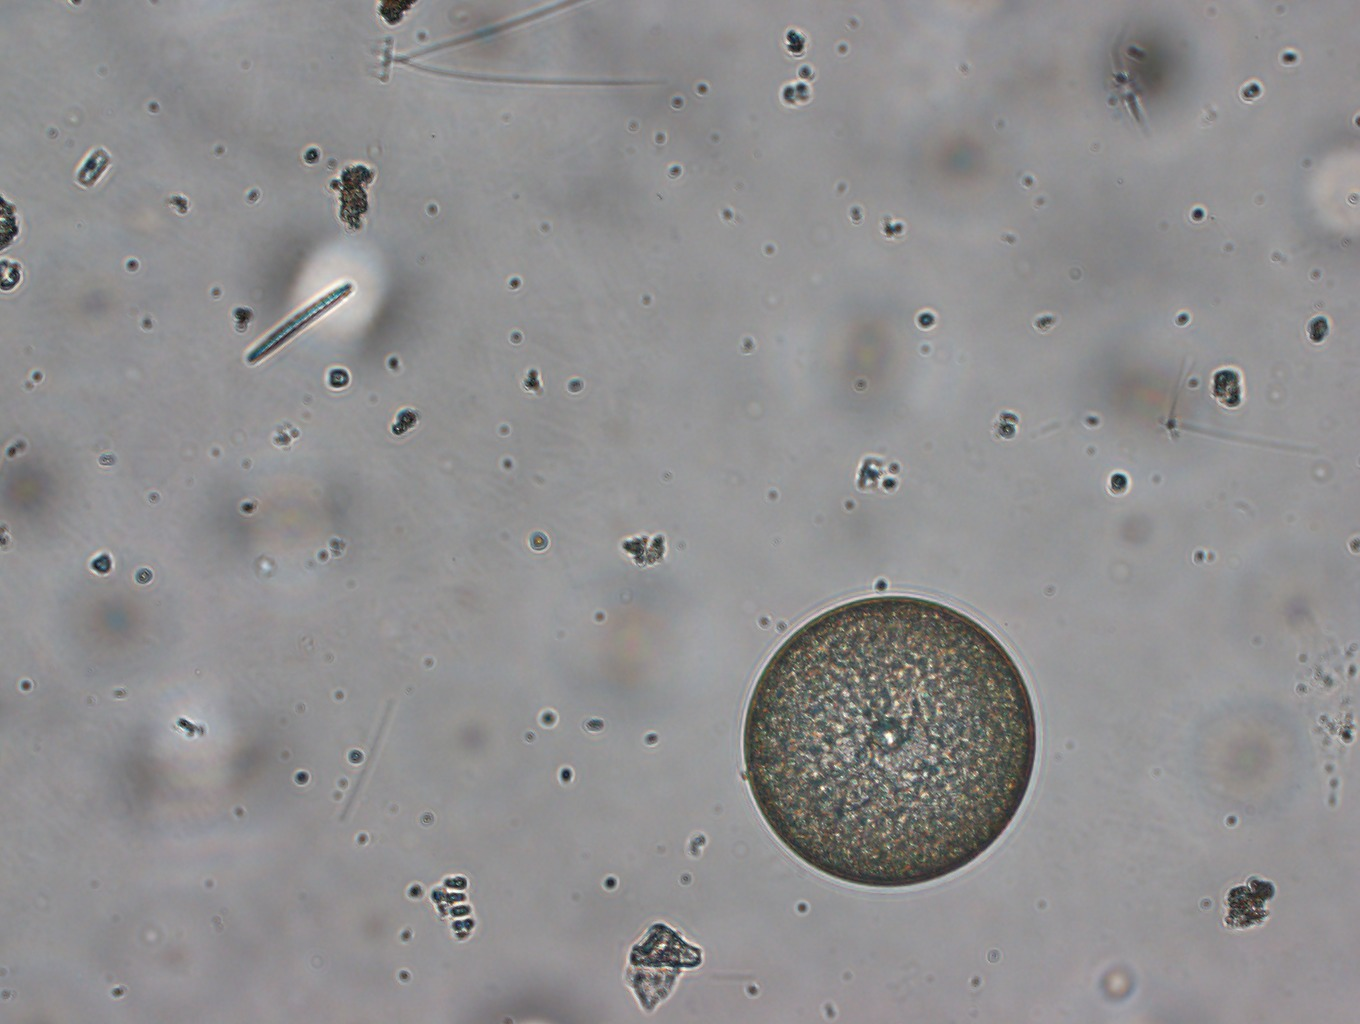coscinodiscus: (731, 585, 1069, 897)
